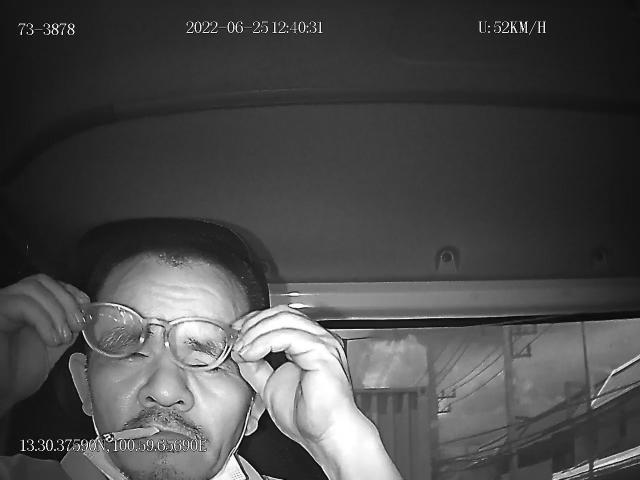Smoking: (101, 426, 160, 444)
